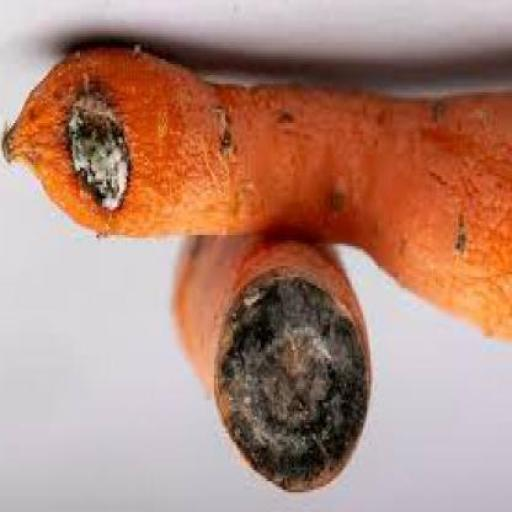biodegradable: (1, 47, 511, 346), (175, 229, 374, 498)
